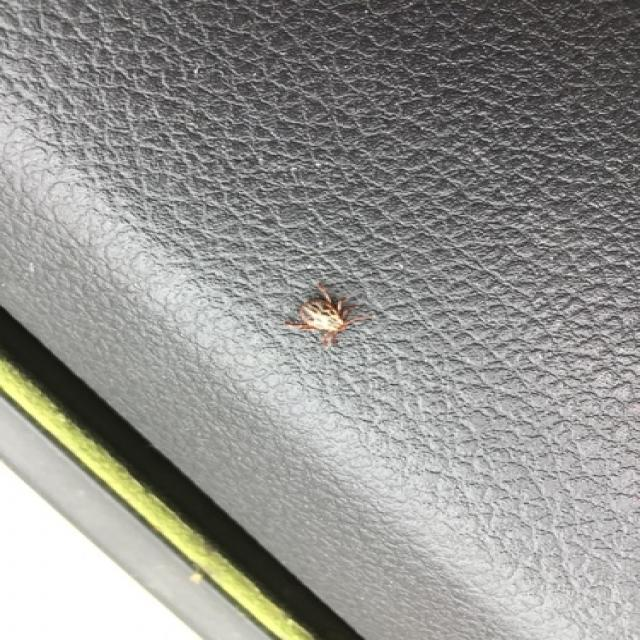Dermacentor Reticulatus-M: (283, 282, 375, 347)
